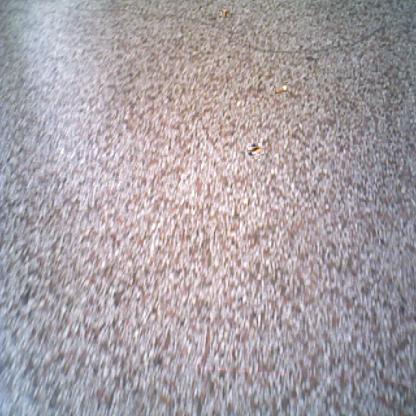dirty: (249, 145, 263, 157), (274, 82, 288, 94), (220, 9, 228, 17)
